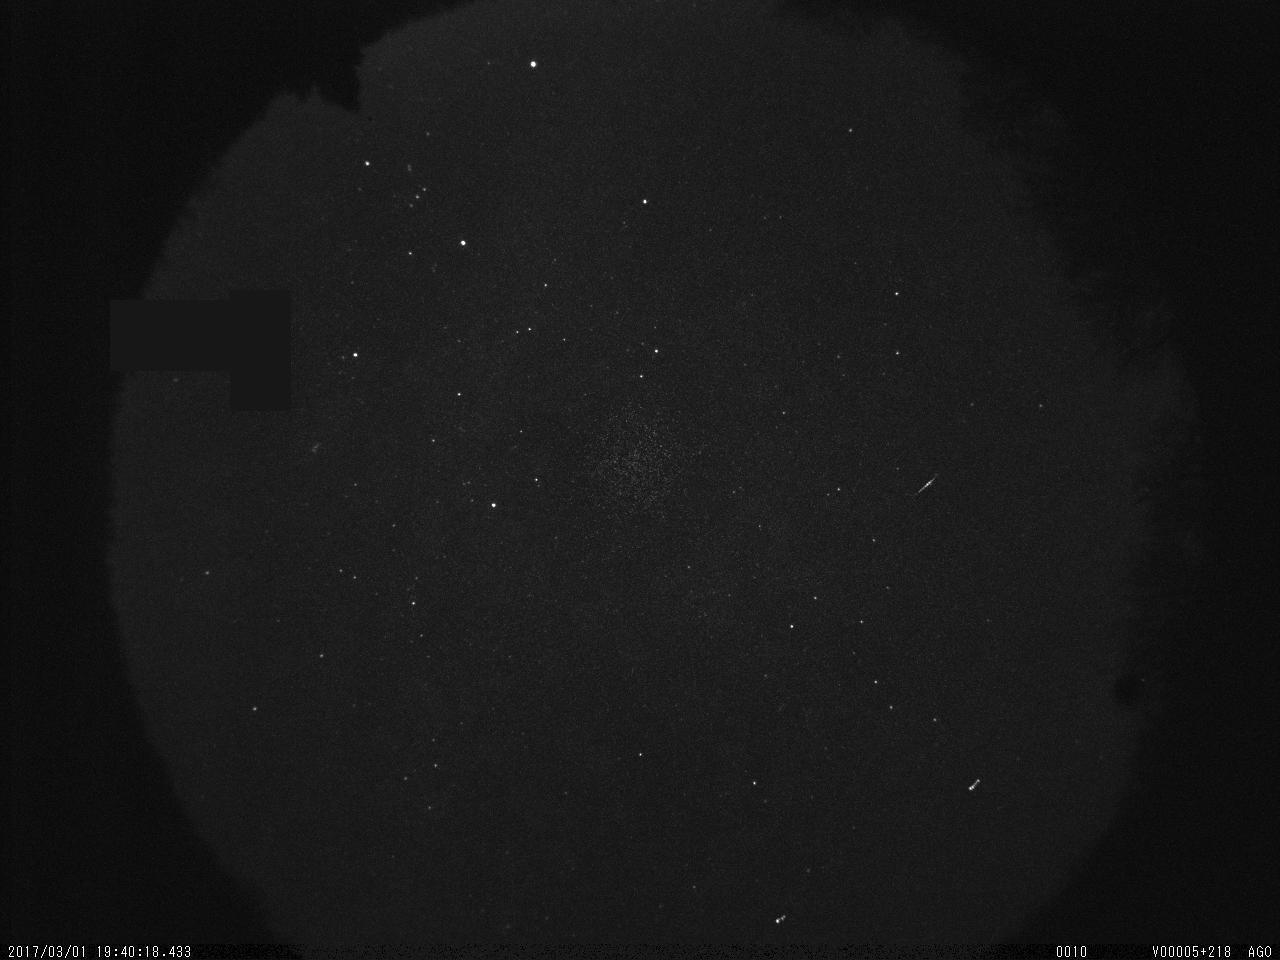meteor: (913, 463, 947, 508)
